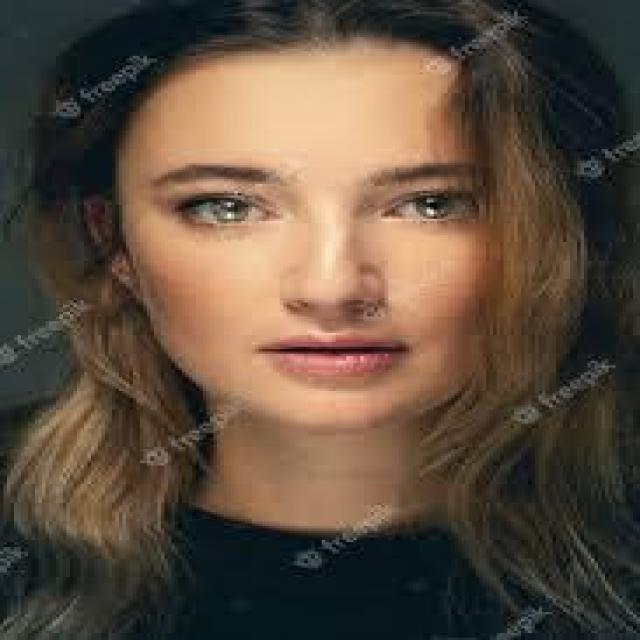person: (49, 5, 626, 638)
